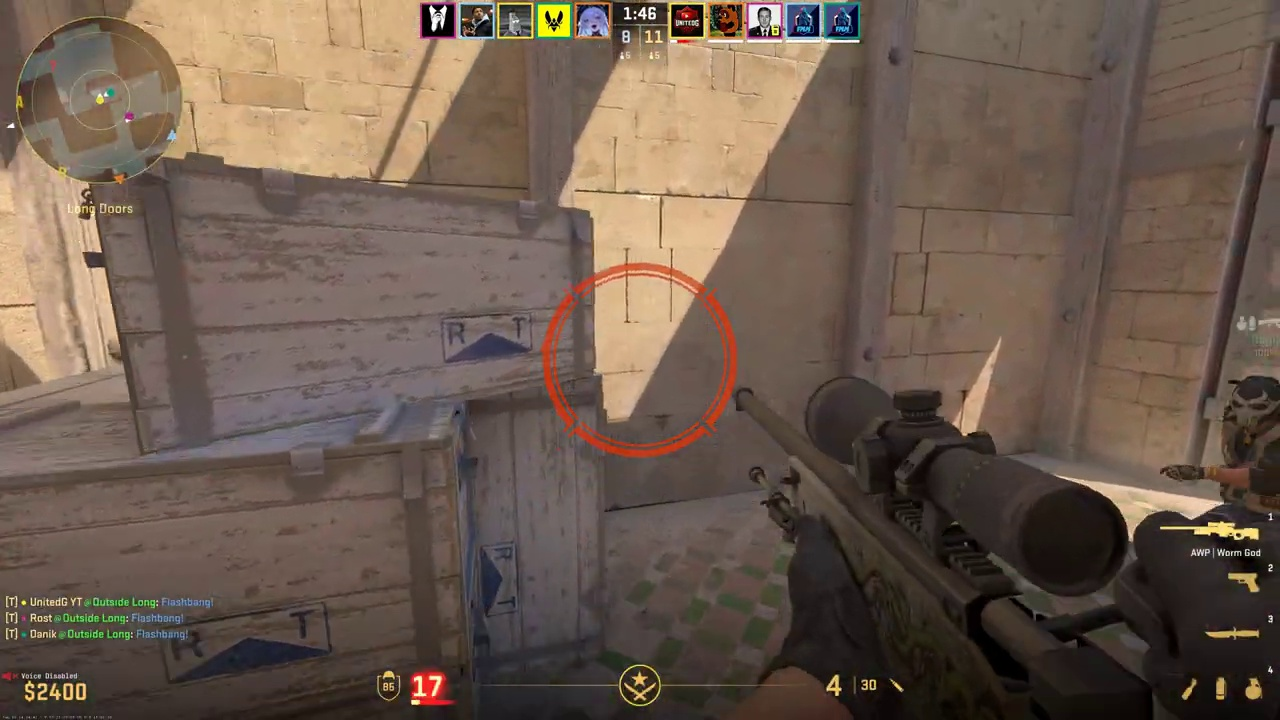Terrorist: (1223, 372, 1279, 568)
